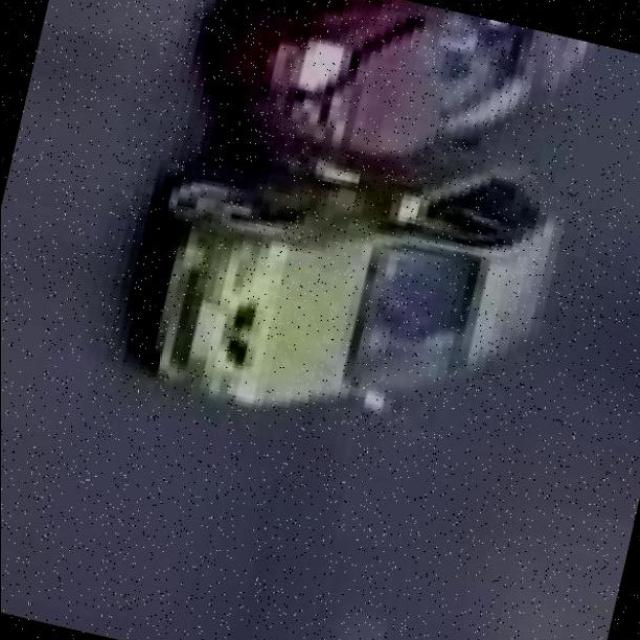accident: (114, 0, 610, 472)
